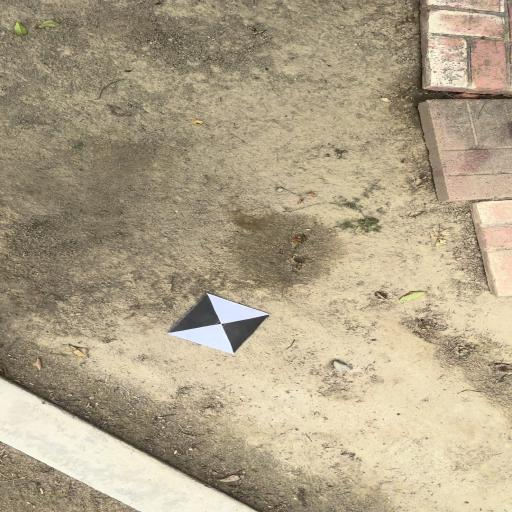target: (169, 292, 271, 353)
